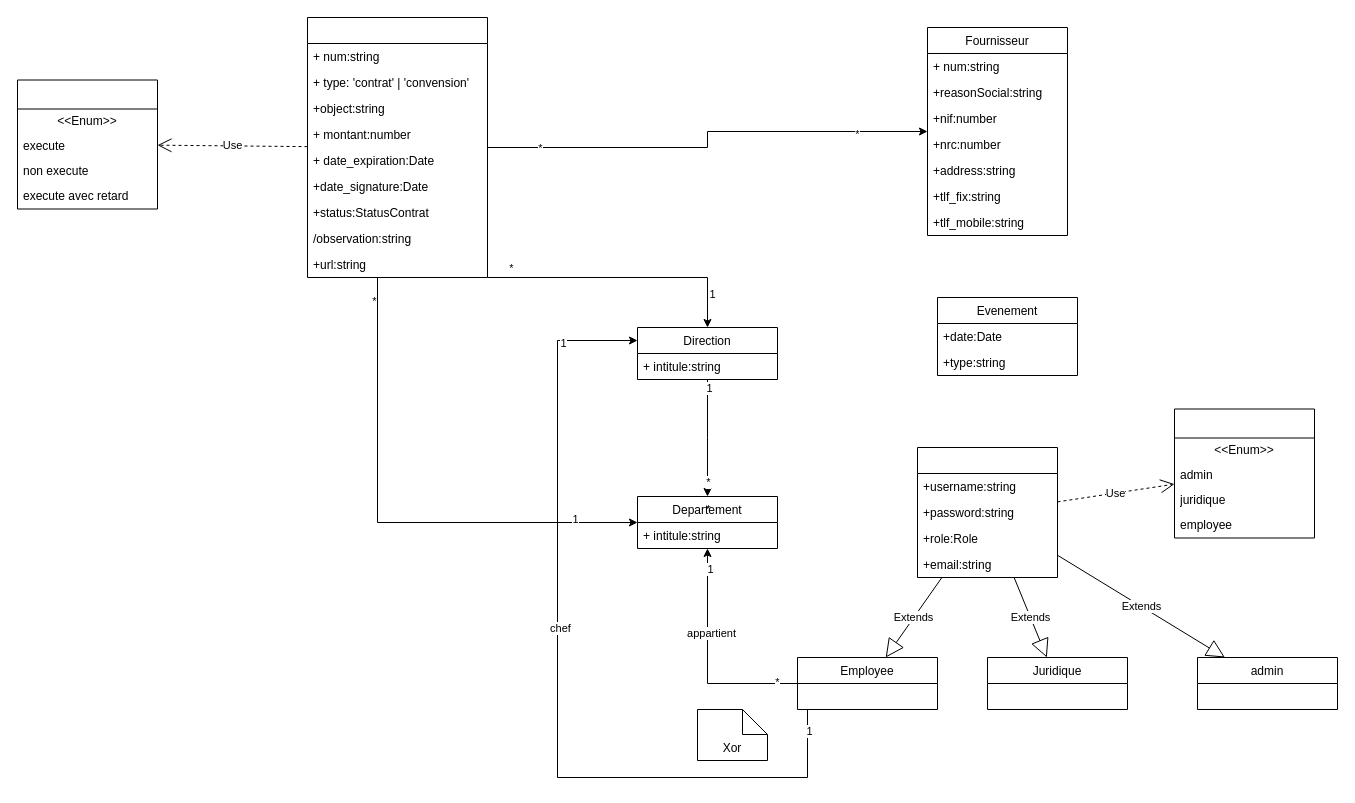
This 1355x803 diagram has some shape labels left out. The box of each missing label's shape, as (x1, y1, x2, y2) in pixels:
Agreement: (306, 16, 488, 278)
Role: (1174, 408, 1314, 538)
StatusContrat: (16, 79, 158, 209)
Utilisateur: (916, 446, 1058, 578)
